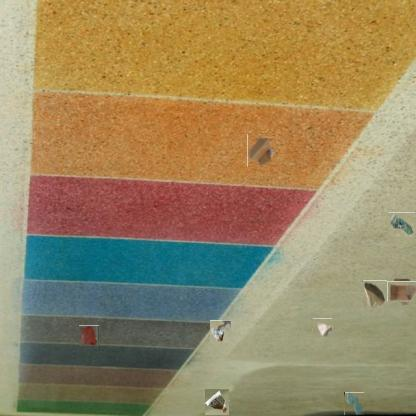dirty: (247, 133, 276, 167), (363, 280, 387, 309), (390, 212, 416, 237), (390, 279, 416, 304), (205, 389, 229, 415), (209, 321, 232, 343), (312, 318, 332, 337)
liquid: (344, 392, 364, 415), (79, 326, 100, 346)
